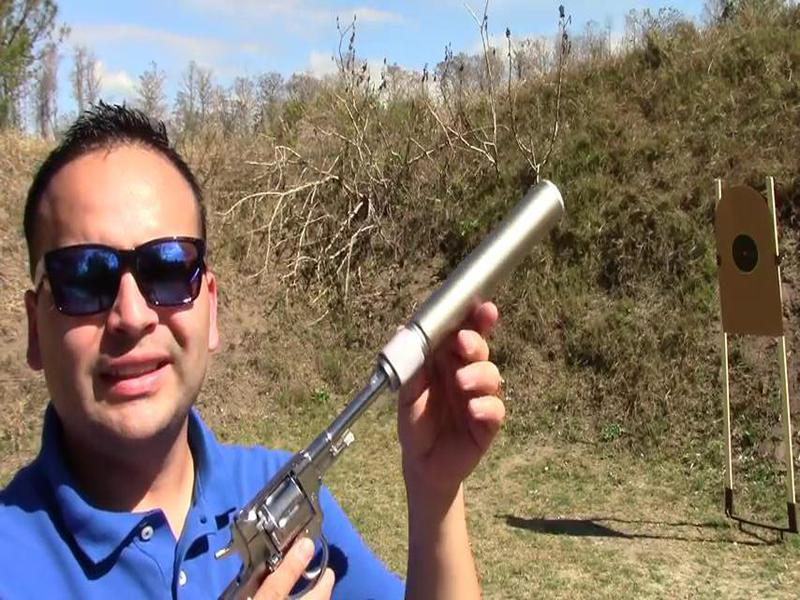Revolver: (196, 354, 398, 600)
